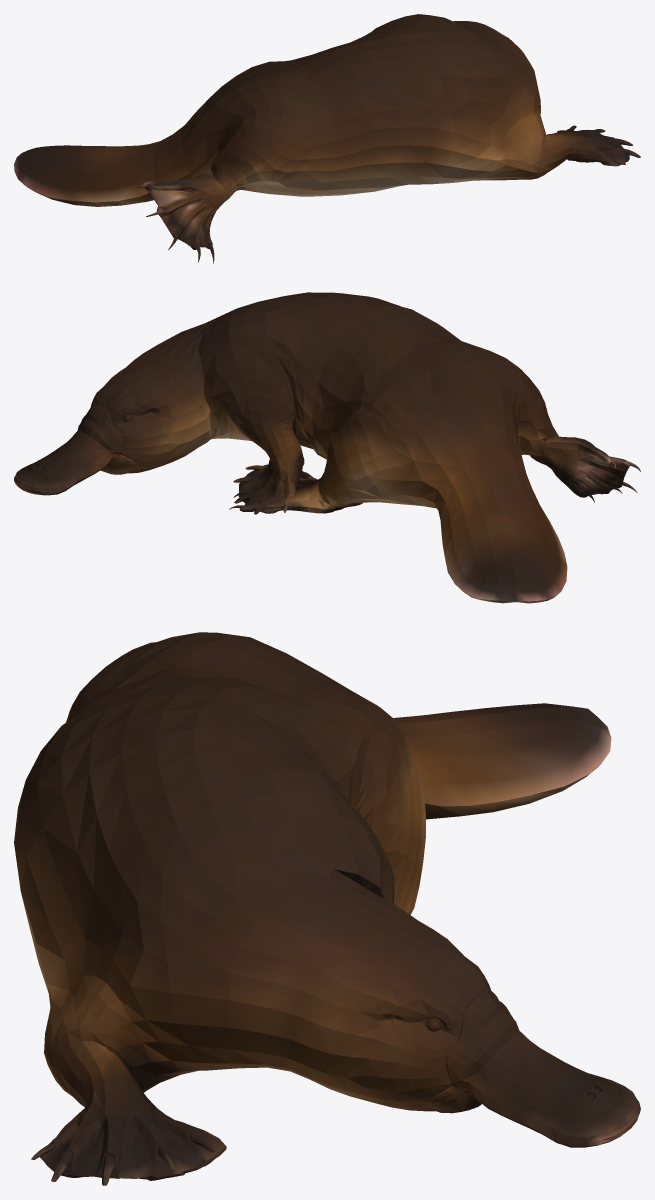
The model's file is platypus.mesh.glb.
3 renders of one model, top to bottom at view 1: azimuth 30°, elevation 25°; view 2: azimuth 150°, elevation 25°; view 3: azimuth 270°, elevation 25°, orthographic. The views are drawn at different scales.
Visible parts, largest first — view 1: root; view 2: root; view 3: root.
Boxes of the visible parts, bbox=[...] form: root: bbox=[14, 14, 640, 263]; root: bbox=[14, 292, 640, 603]; root: bbox=[14, 632, 640, 1185].
Size of the model in its own units: 0.7057 by 0.2092 by 0.4046.
Materials: 1 (1 with a texture image).
